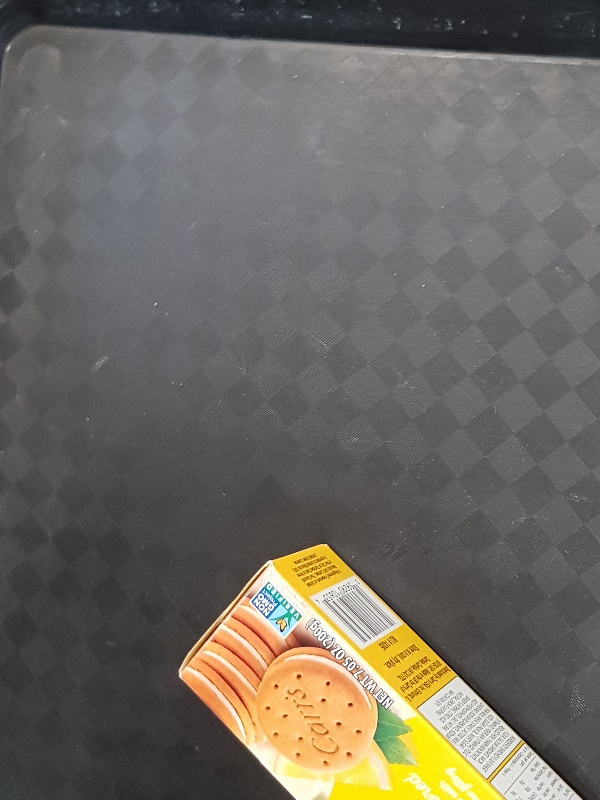Carr's Ginger Lemon Cremes: (177, 542, 586, 800)
